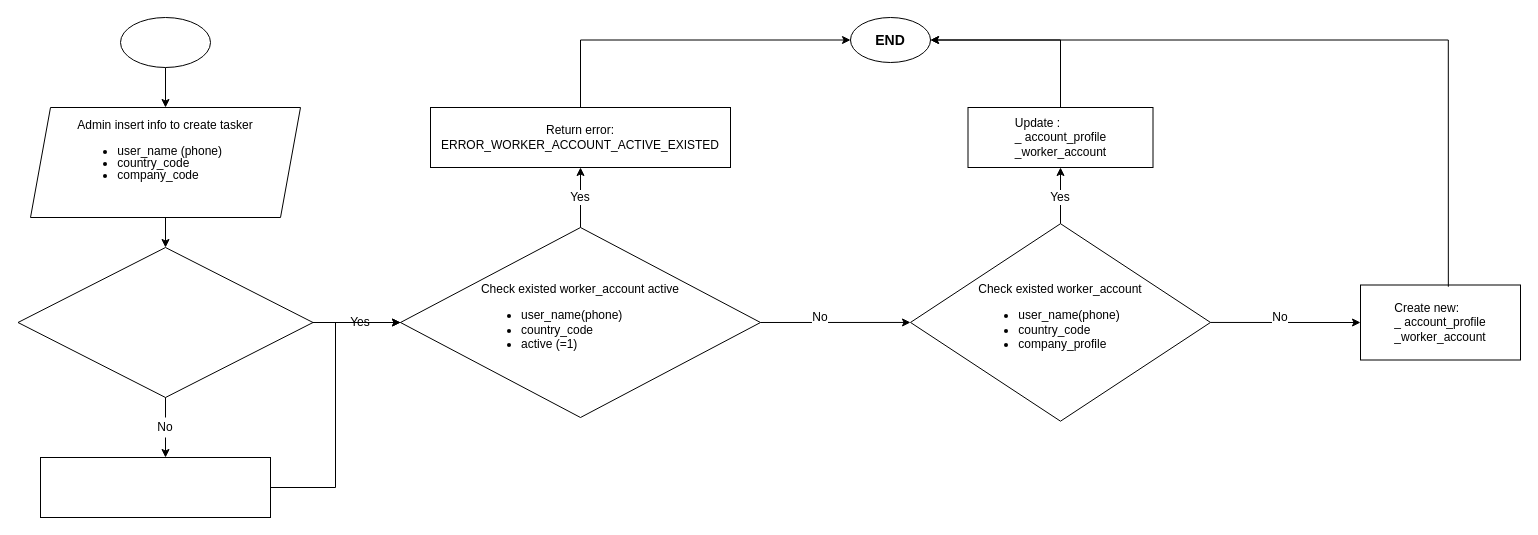
Image size: 1538x535. Some labels were removed from this diagram. The centre of each missing label's shape, as x and y in pixels:
Check customer_account with user_name(phone) country_code: [165,322]
Create new: _ customer_account: [155,487]
START: [165,42]
